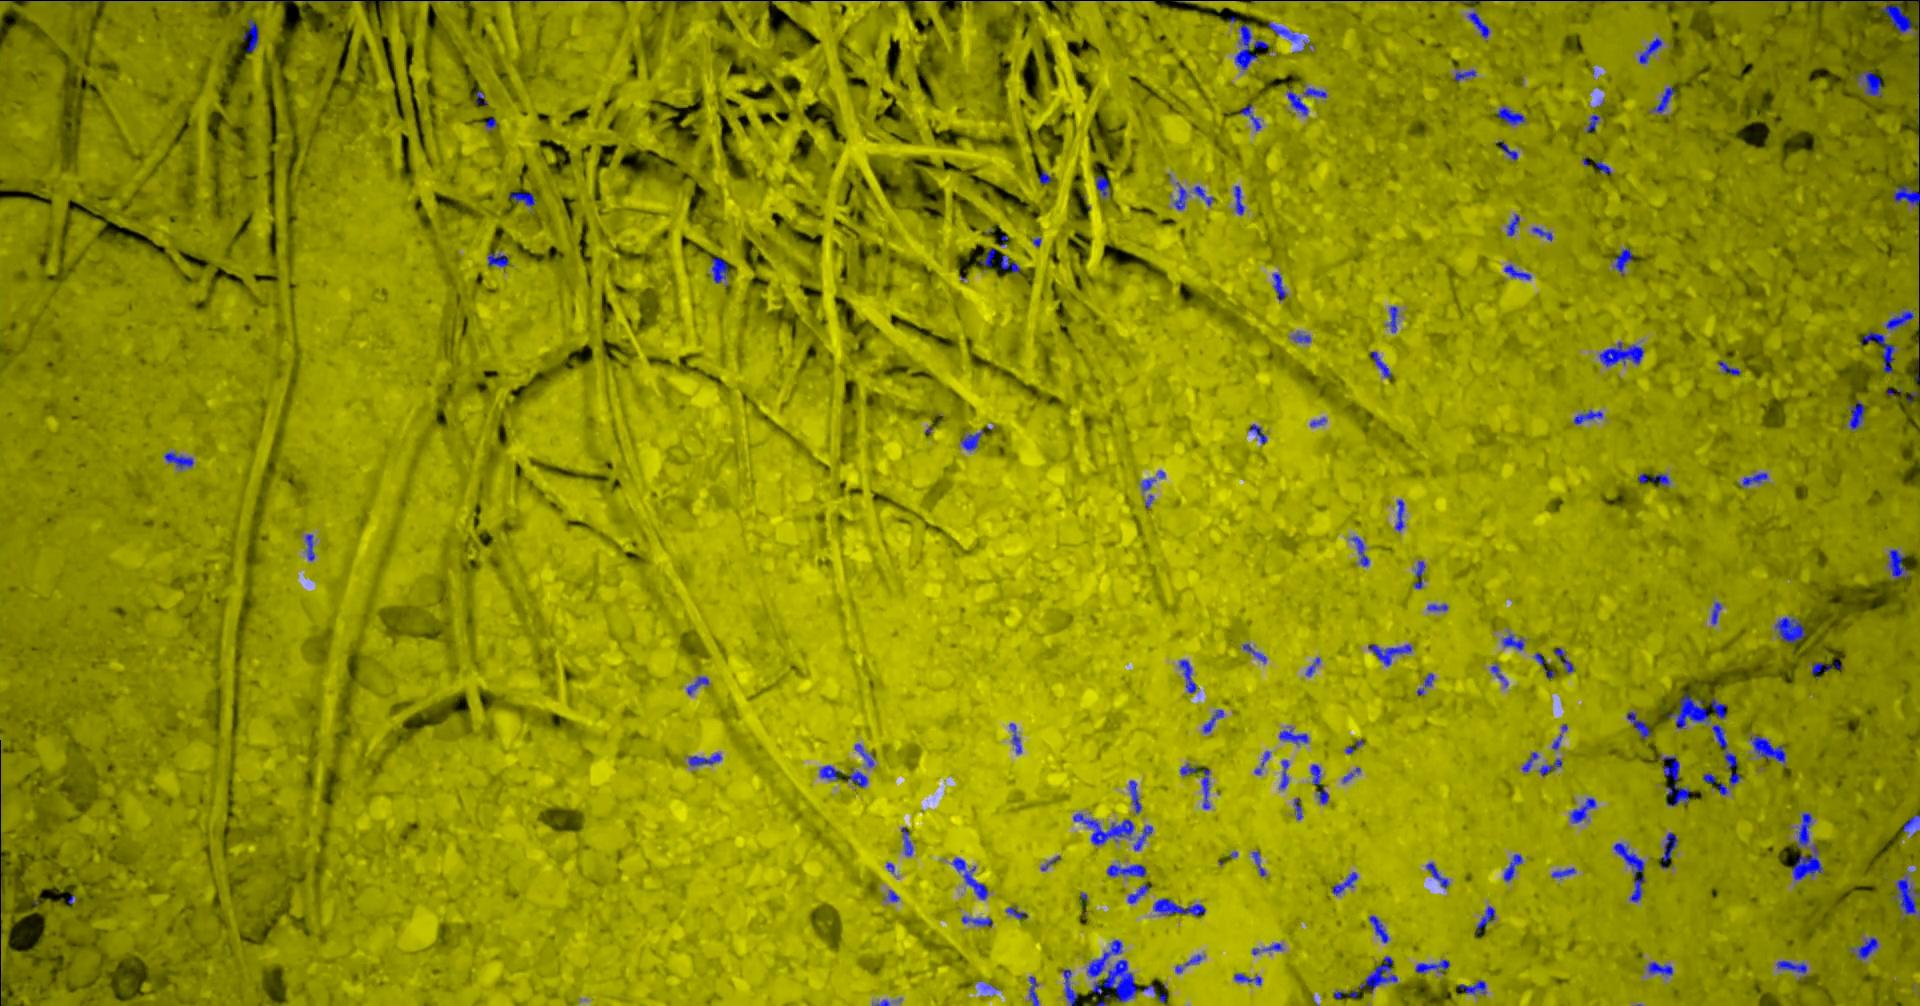ant: (1072, 812, 1133, 845), (1091, 959, 1137, 1002), (1613, 842, 1644, 902), (1710, 724, 1740, 786), (1658, 754, 1689, 807), (1859, 330, 1895, 373), (1234, 24, 1267, 69), (1667, 694, 1709, 728), (952, 857, 987, 899), (1086, 939, 1123, 977), (1357, 956, 1397, 992), (1878, 0, 1919, 33), (1599, 340, 1643, 366), (1790, 843, 1822, 879), (1893, 170, 1919, 213), (1749, 734, 1785, 762), (1152, 897, 1205, 916), (1368, 643, 1411, 666), (1895, 875, 1919, 915), (1774, 616, 1804, 643), (1853, 71, 1883, 97), (1658, 832, 1677, 868), (1625, 711, 1650, 739), (1570, 796, 1595, 822), (1331, 871, 1357, 895), (1887, 549, 1909, 578), (1467, 11, 1490, 38), (1638, 37, 1661, 64), (1851, 936, 1878, 959), (1267, 22, 1299, 41), (1368, 915, 1389, 942), (1178, 659, 1196, 692), (1350, 536, 1369, 567), (1884, 310, 1914, 329), (1476, 904, 1495, 934), (1777, 960, 1806, 979), (1425, 862, 1448, 887), (1652, 86, 1674, 112), (1239, 104, 1261, 130), (1553, 647, 1575, 672), (1286, 89, 1307, 116), (1534, 652, 1554, 678), (1277, 727, 1308, 744), (1062, 969, 1077, 1005), (1496, 105, 1524, 124), (1371, 351, 1390, 379), (1503, 854, 1523, 882), (1797, 812, 1811, 848), (243, 19, 258, 52), (1106, 864, 1145, 876), (1614, 246, 1632, 274), (1203, 709, 1223, 733), (1848, 400, 1864, 429), (164, 451, 193, 467), (1415, 959, 1449, 973), (960, 429, 983, 450), (1128, 780, 1142, 813), (1242, 643, 1266, 662), (1133, 826, 1152, 850), (1573, 409, 1603, 424), (711, 257, 728, 283), (1550, 723, 1567, 749), (1496, 140, 1517, 160), (1128, 883, 1149, 903), (855, 743, 872, 767), (1503, 264, 1531, 279), (1638, 473, 1669, 486), (509, 191, 535, 207), (1738, 473, 1768, 486), (686, 676, 709, 694), (1272, 272, 1286, 300), (1192, 185, 1213, 205), (1008, 723, 1021, 753), (688, 753, 721, 765), (1538, 758, 1561, 775), (1251, 850, 1265, 876), (998, 254, 1018, 272), (1248, 423, 1266, 443), (1502, 633, 1523, 650), (1173, 182, 1186, 210), (1647, 962, 1672, 976), (1717, 359, 1740, 375), (819, 763, 842, 779), (1252, 942, 1283, 954), (1490, 666, 1507, 685), (848, 770, 867, 788), (1458, 981, 1484, 993), (1521, 751, 1538, 771), (900, 826, 912, 855), (1233, 185, 1244, 213), (1255, 751, 1269, 774), (1004, 904, 1027, 918), (1233, 973, 1261, 984), (979, 246, 996, 265), (1710, 697, 1726, 718), (1201, 768, 1209, 809), (961, 915, 990, 925), (1902, 814, 1919, 832), (1453, 69, 1476, 81), (1811, 662, 1830, 677), (1095, 175, 1109, 196), (1531, 226, 1552, 240), (488, 251, 508, 265), (1394, 499, 1403, 531), (1506, 213, 1519, 235), (1387, 305, 1397, 332), (1413, 561, 1423, 588), (1305, 657, 1319, 676), (1279, 760, 1288, 789), (1029, 976, 1037, 1005), (305, 533, 314, 560), (1303, 86, 1326, 97), (1586, 114, 1599, 132), (1316, 786, 1328, 804), (1550, 868, 1575, 876), (1595, 160, 1610, 174), (1037, 169, 1051, 184), (1310, 763, 1321, 784), (1178, 763, 1196, 775), (1293, 796, 1302, 819), (475, 90, 488, 105), (1291, 332, 1310, 342), (1140, 478, 1156, 490), (1710, 601, 1719, 622), (484, 117, 497, 131), (1702, 772, 1716, 782), (1427, 603, 1448, 610), (1804, 0, 1873, 1), (1917, 8, 1919, 58)
